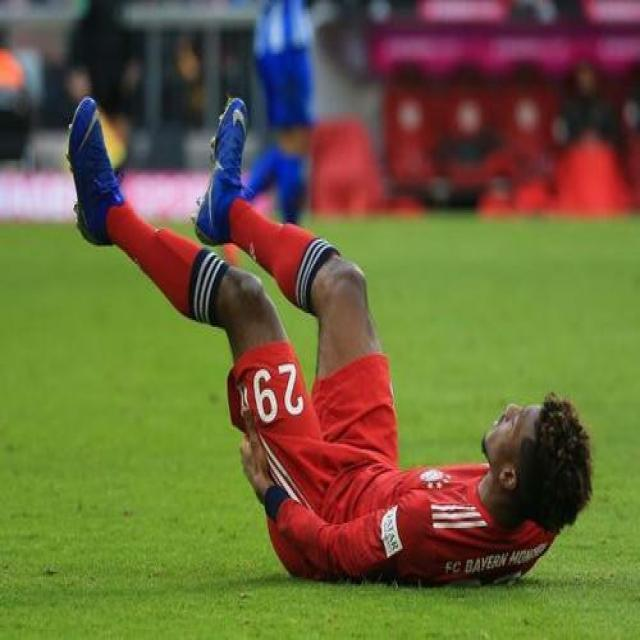fall: (92, 144, 575, 576)
